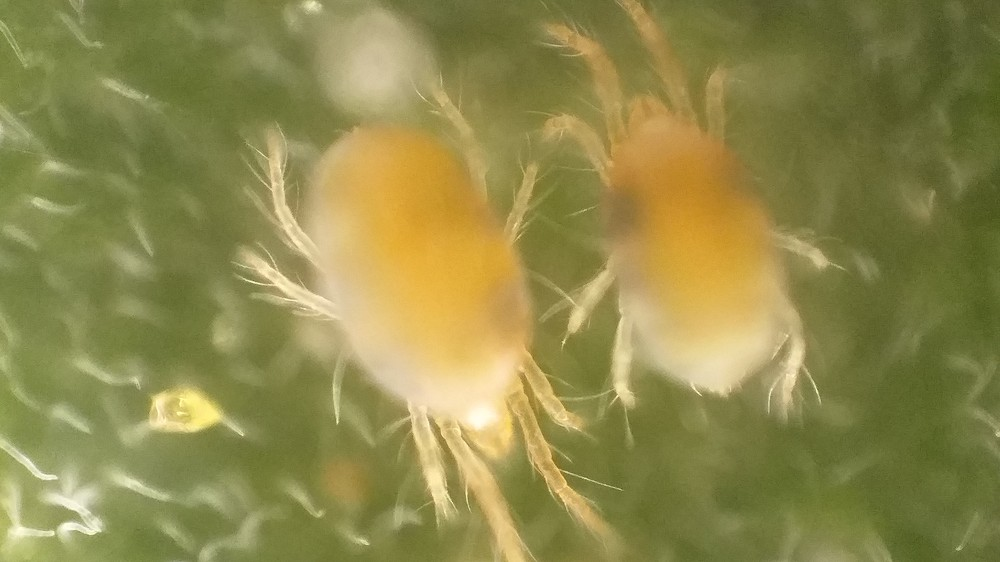Aracnido Rojo: (240, 76, 609, 558), (538, 11, 866, 433)
